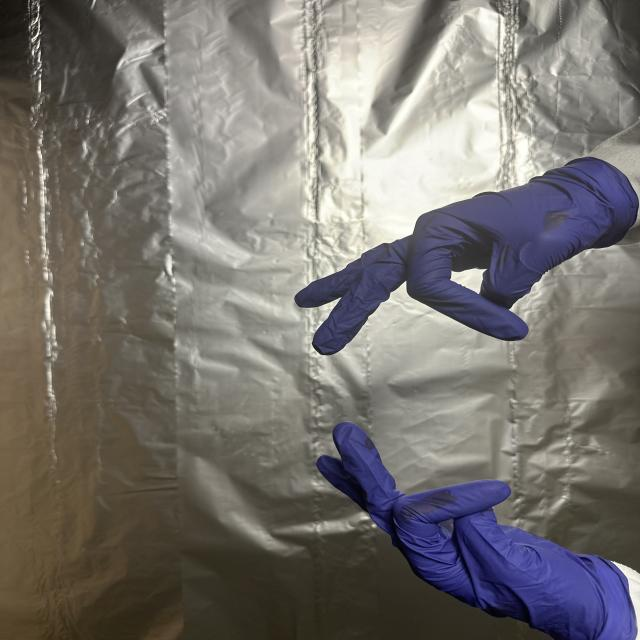gloves_contaminated: (317, 422, 637, 640), (295, 158, 638, 355)
